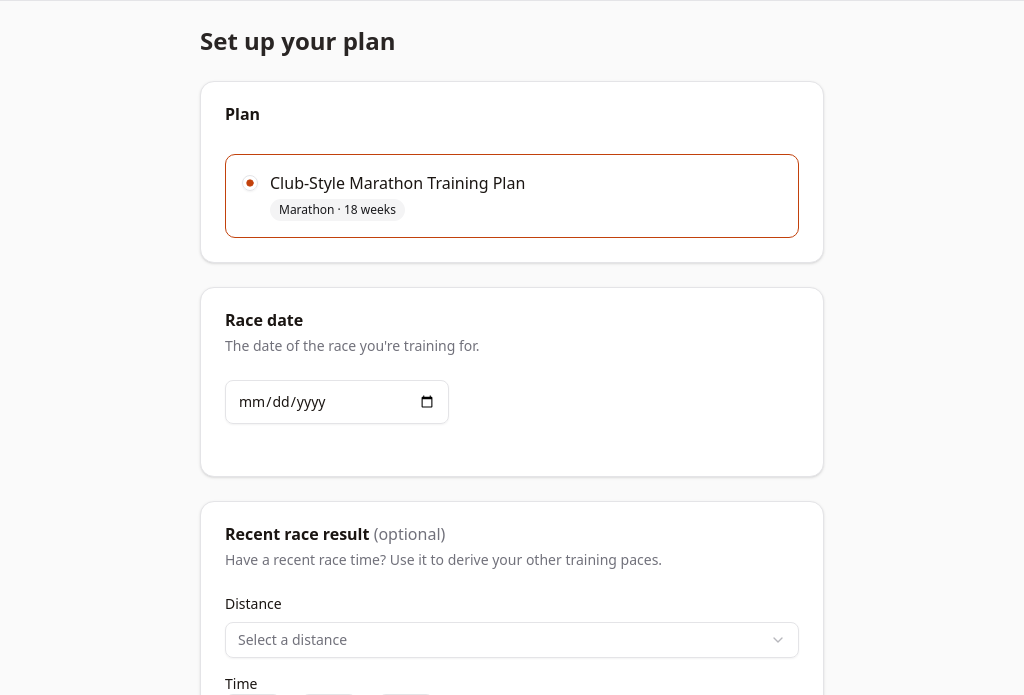
Test: setup: Create my plan › does not assume 'no plan' when the lookup fails: error, Try again, Create disabled
Type "2026-12-16" into the date field with id "race-date".
click(337, 402); type("2026-12-16")  # box [225,380,449,424]
(page scrolled)
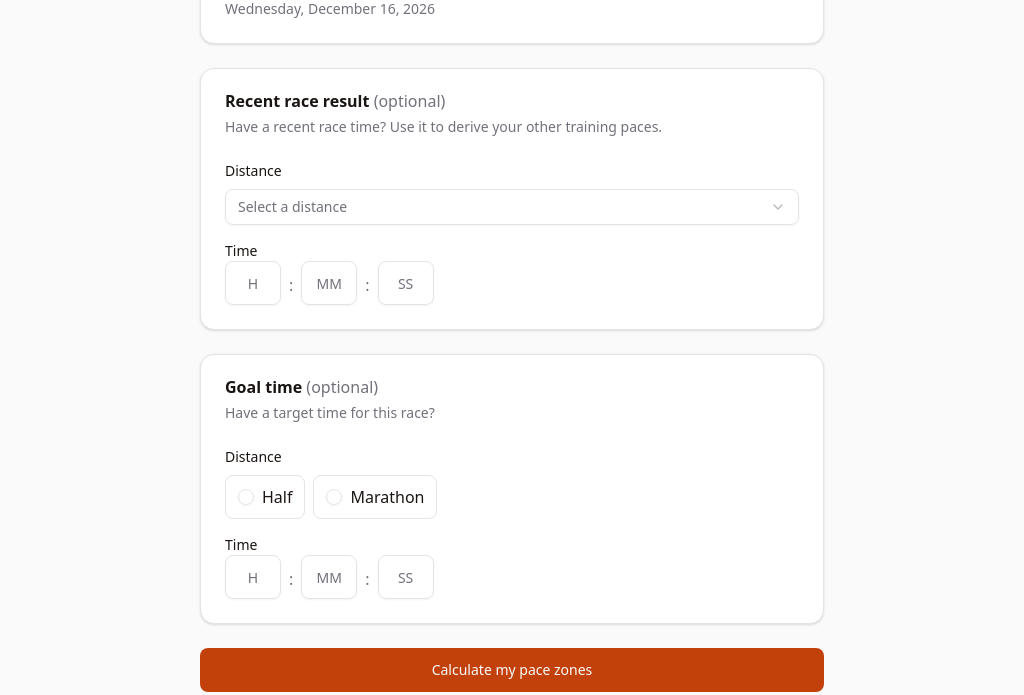
Click the radio button named "Half" next to "Half".
click(246, 497)  # box [238,489,254,505]
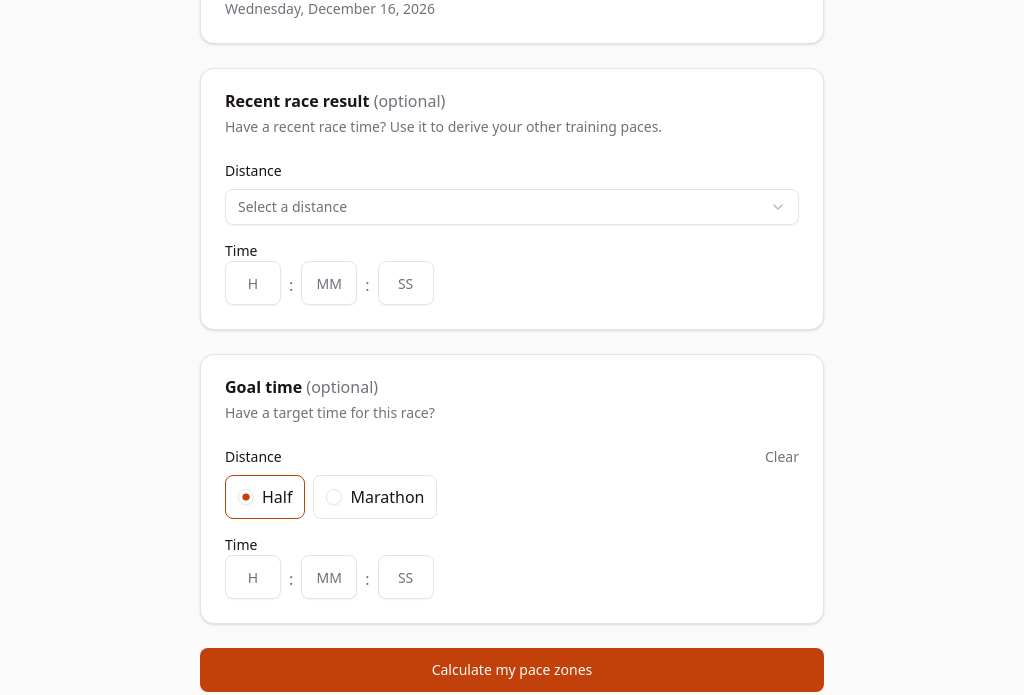
Type "1" into the field with id "goal-time-hours".
click(253, 577); type("1")  # box [225,555,281,599]
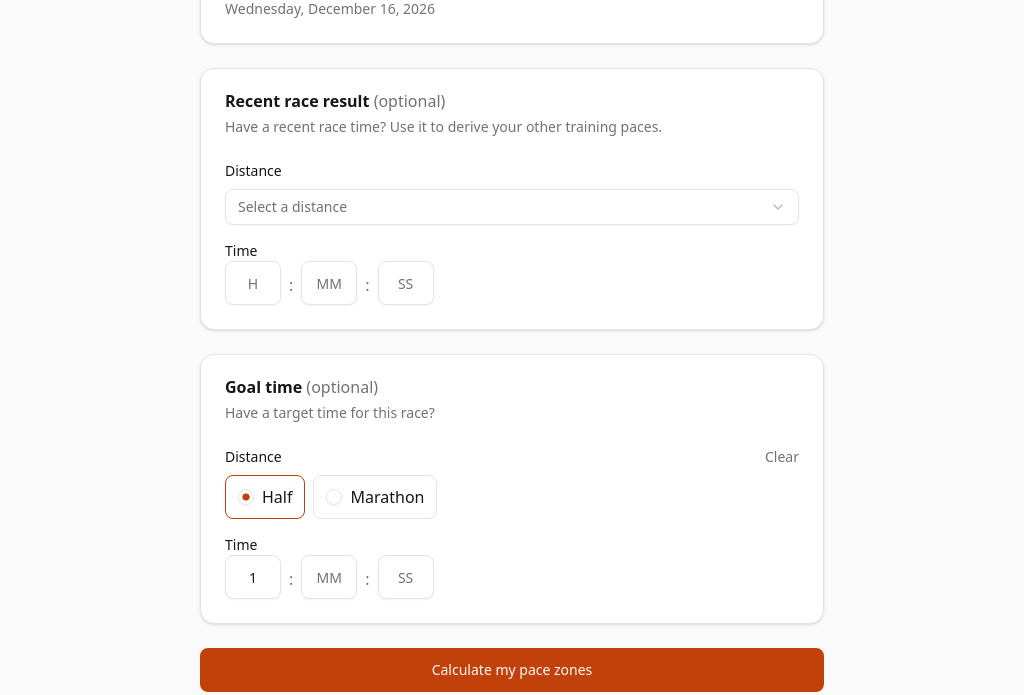
Type "45" into the field with id "goal-time-minutes".
click(329, 577); type("45")  # box [301,555,357,599]
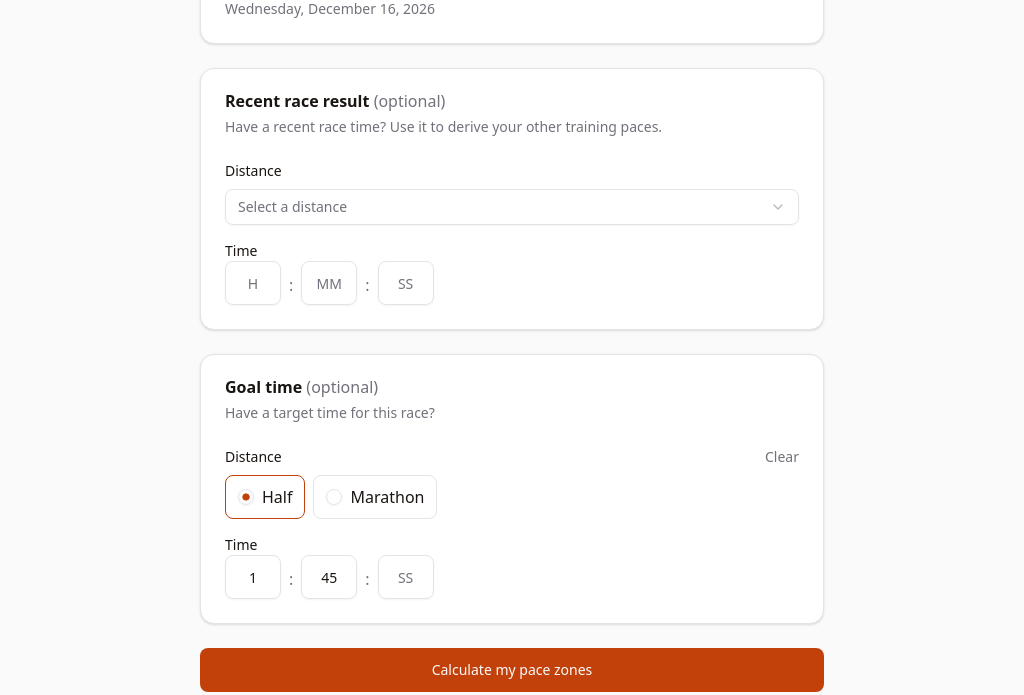
Type "0" into the field with id "goal-time-seconds".
click(406, 577); type("0")  # box [378,555,434,599]
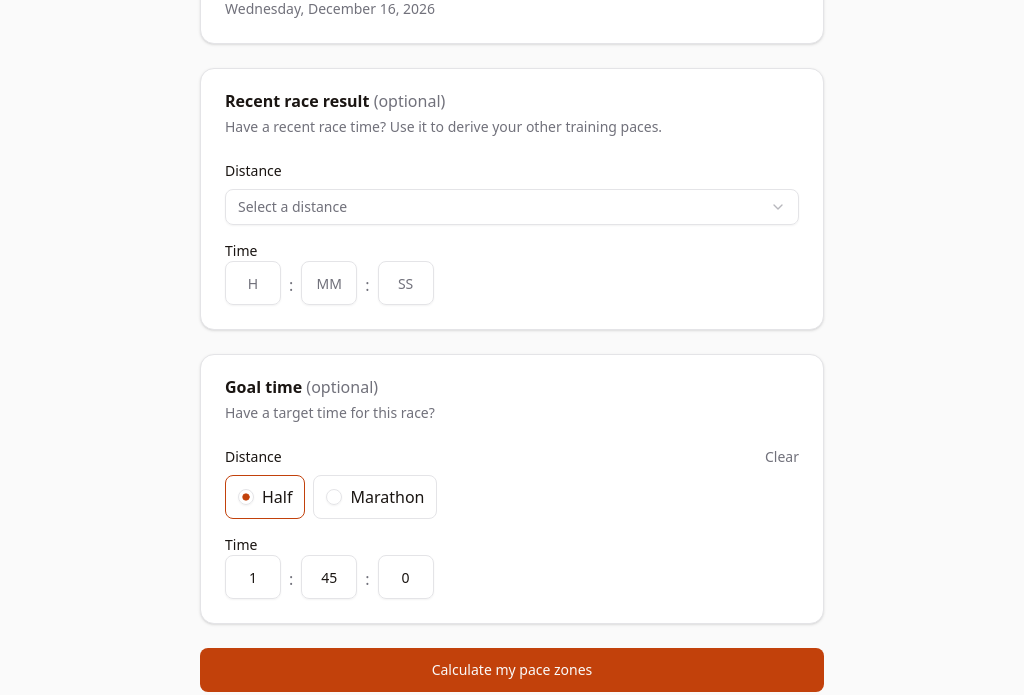
Click the button "Calculate my pace zones".
click(512, 670)  # box [200,648,824,692]
(page scrolled)
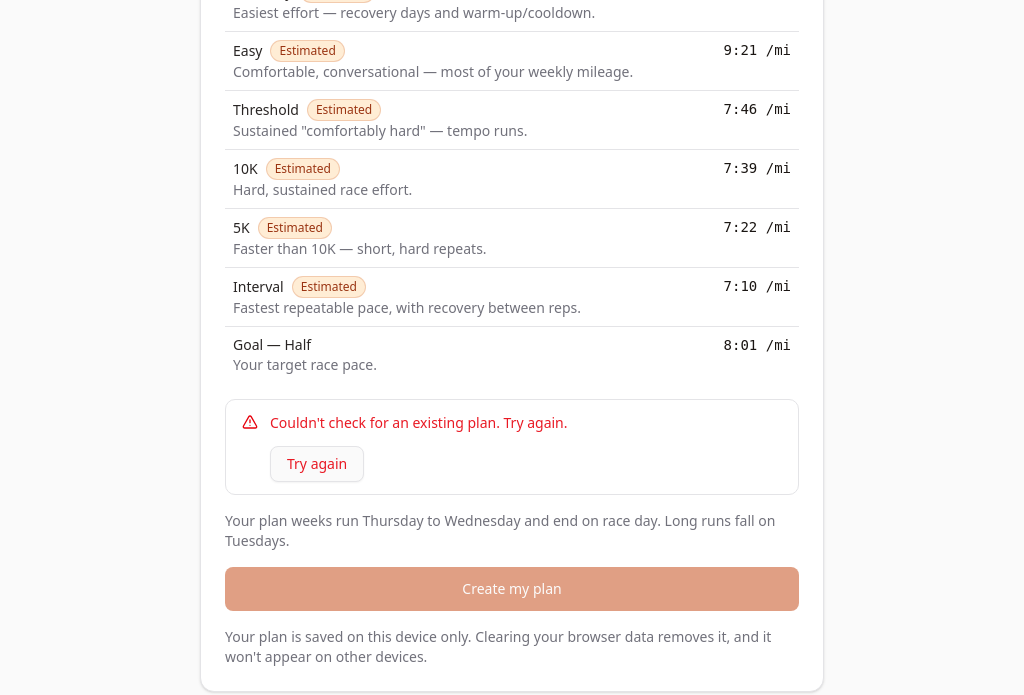
Expected: the text "Couldn't check for an existing plan. Try again." is shown, [270,412,568,434]
Expected: the button "Try again" is shown, [270,446,364,482]
Expected: the button "Create my plan" is disabled, [225,567,799,611]
